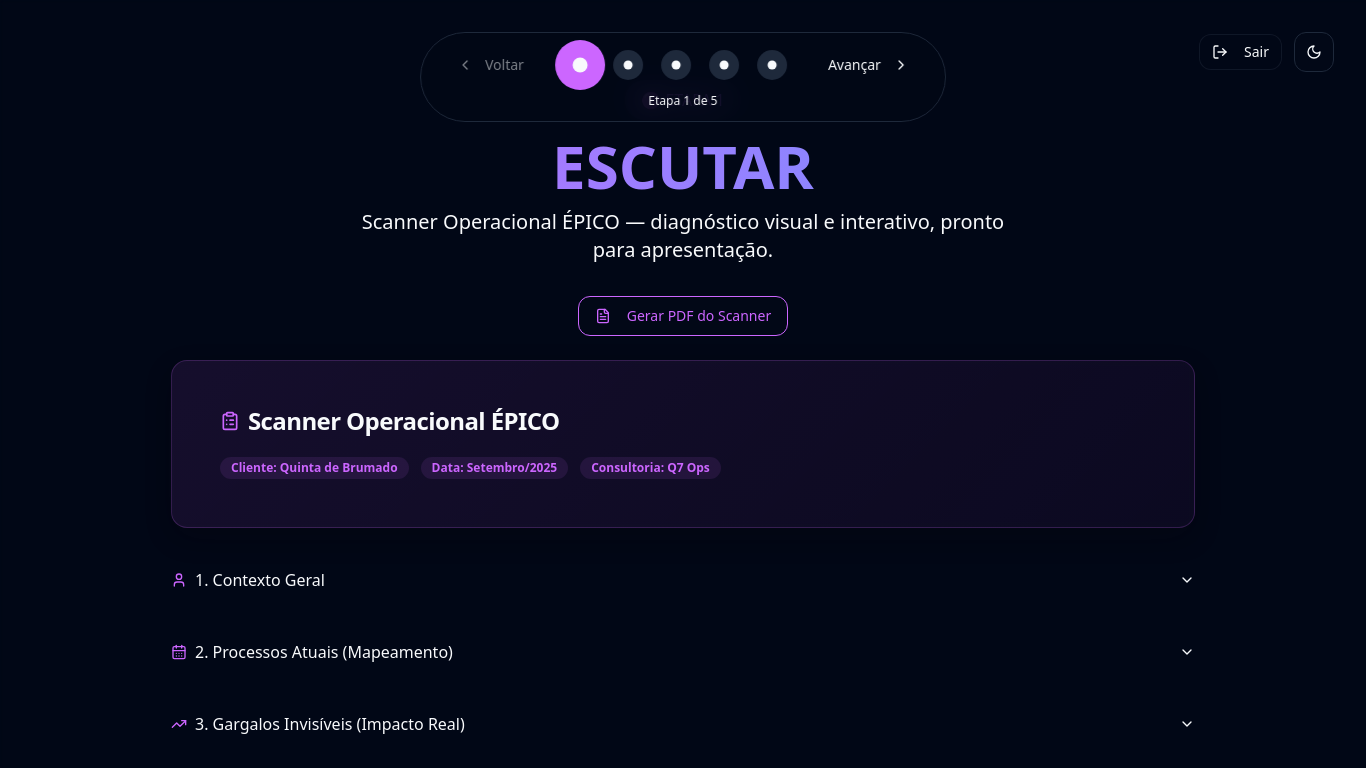
Test case: Journey Flow Integration › mantém estado entre etapas
Check: the heading "ESCUTAR" is shown, box [24,136,1342,196]
Click the button "1. Contexto Geral" at (260, 580), box [171,552,1195,608]
(page scrolled)
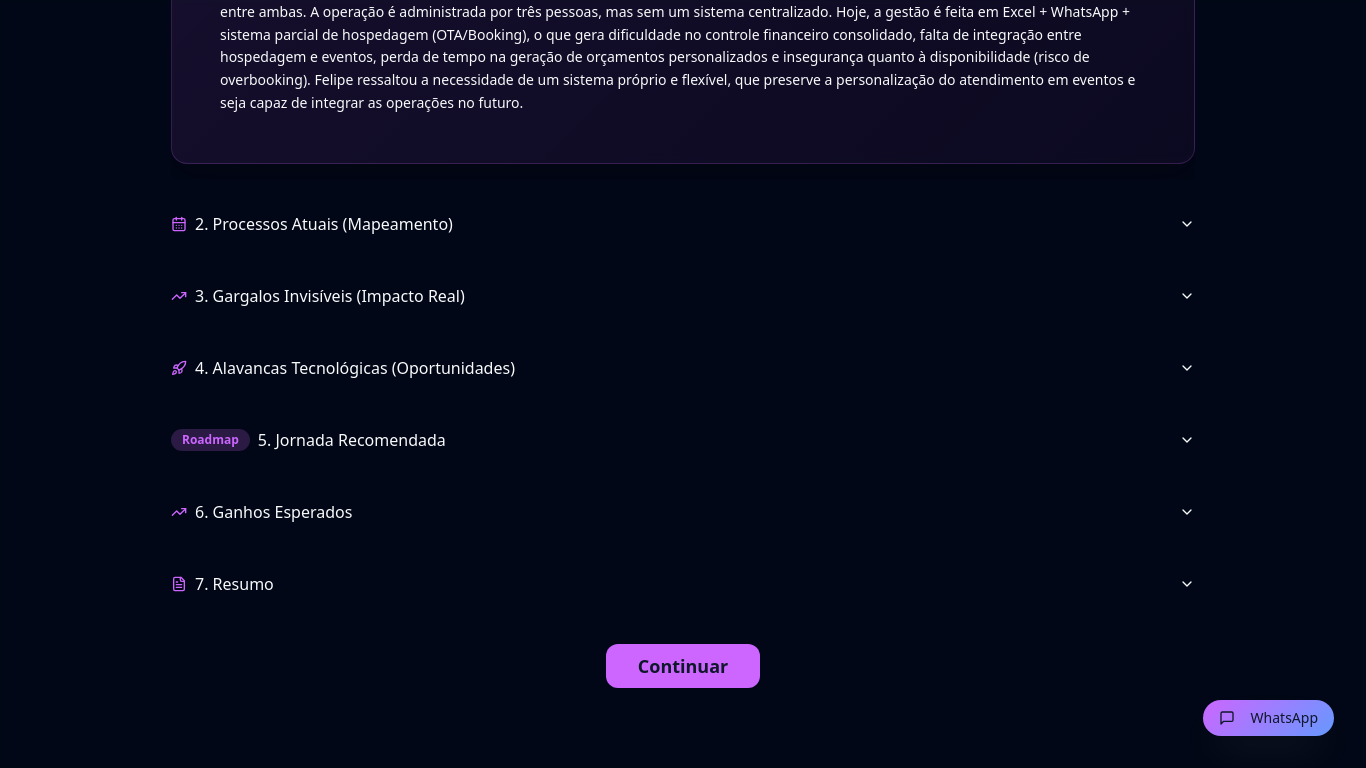
Avança e volta
Click the button "Continuar" at (683, 666), box [606,644,760,688]
(page scrolled)
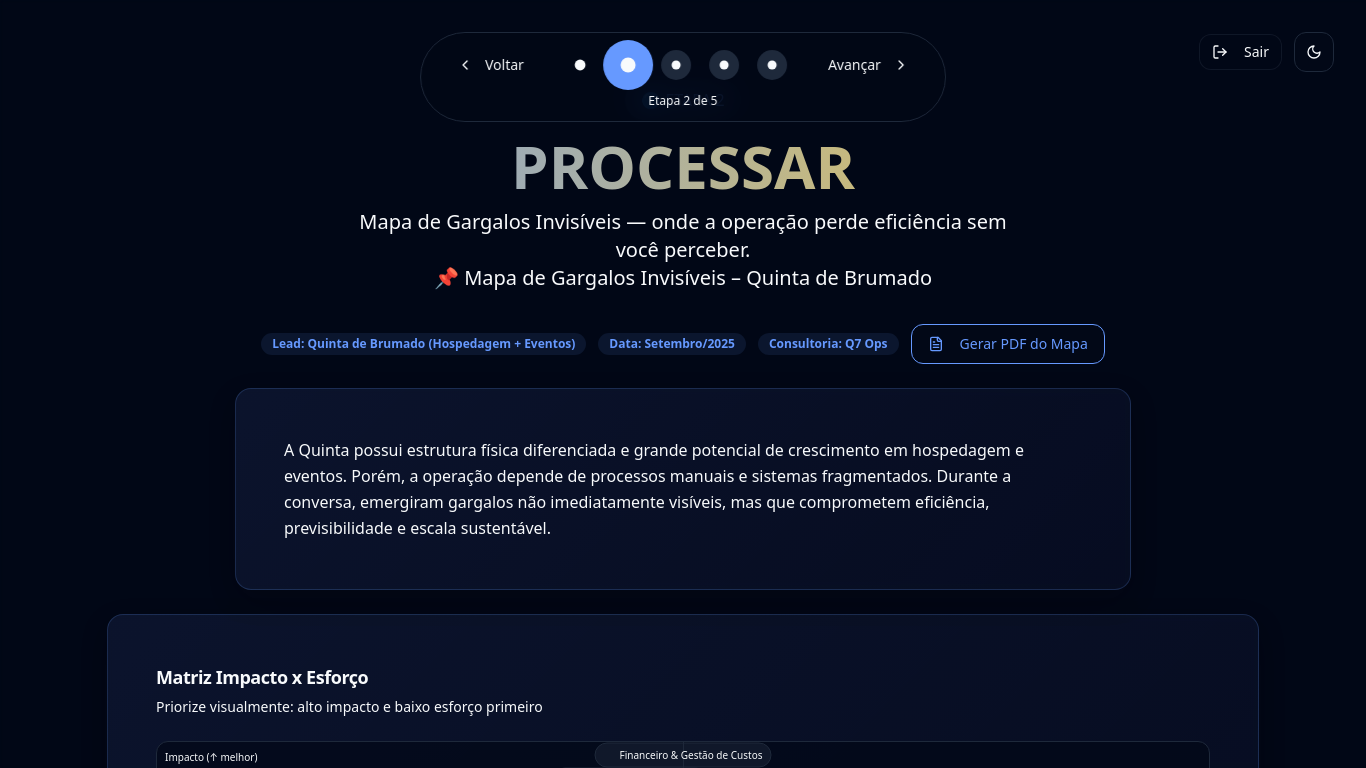
Check: the heading "PROCESSAR" is shown, box [24,136,1342,196]
Click the button "Voltar" at (491, 65), box [445,47,536,83]
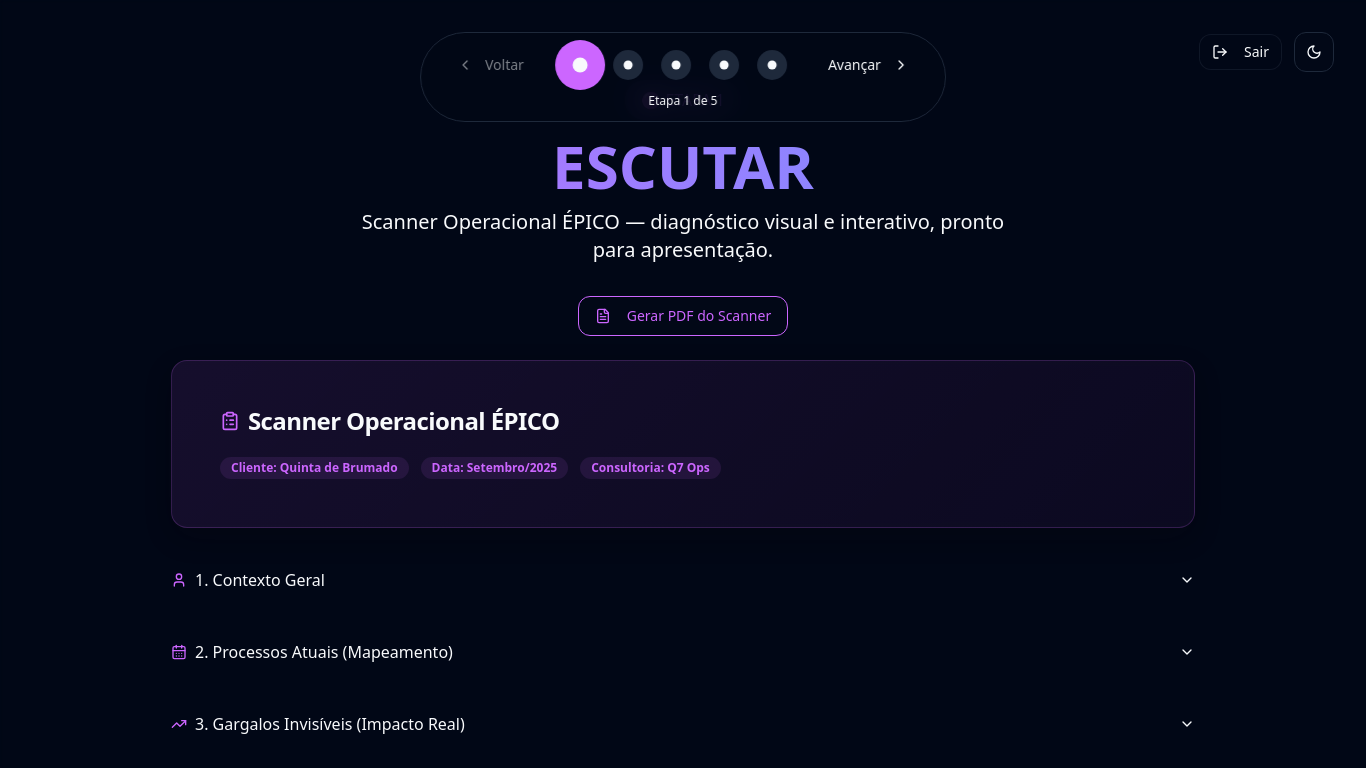
Check: the heading "ESCUTAR" is shown, box [24,136,1342,196]
